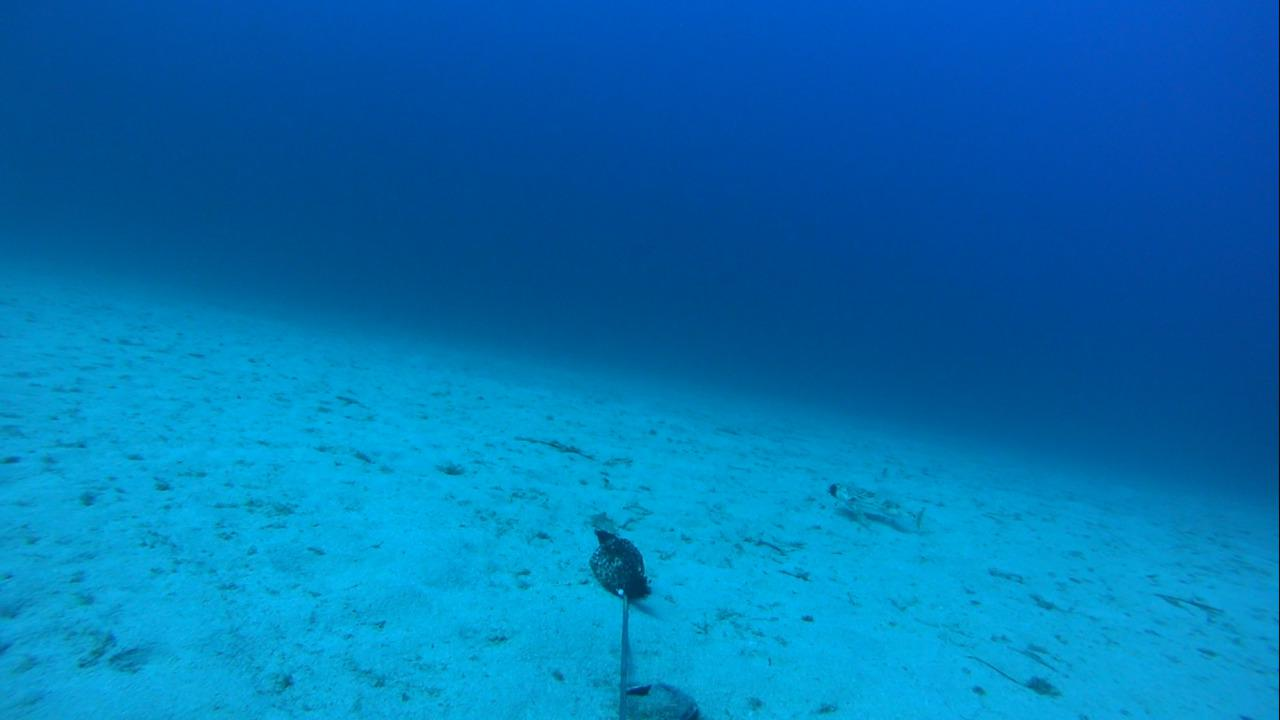dactylopterus: (814, 473, 928, 534)
